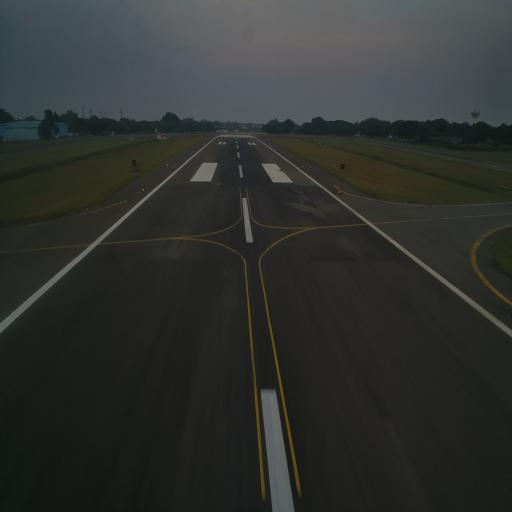on: (338, 188, 343, 196), (141, 186, 145, 194)
